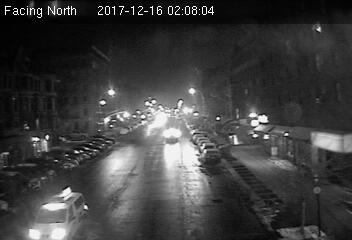car: (32, 186, 88, 240), (201, 148, 221, 164)
